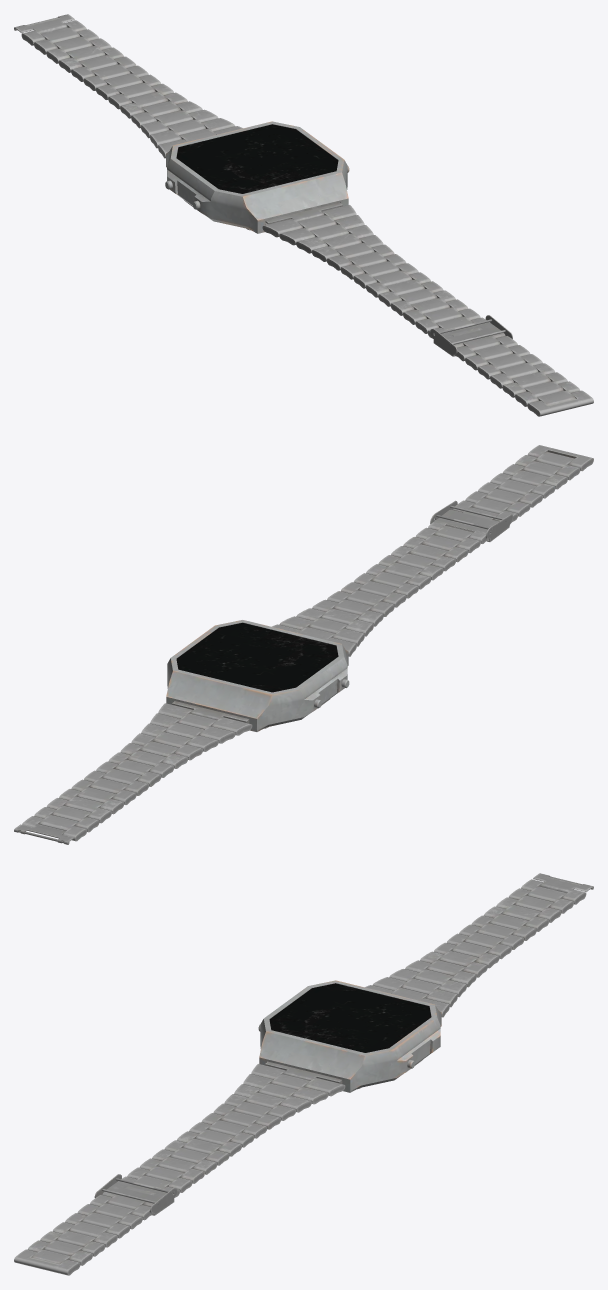
Rendered from digital_wrist_watch.glb.
The picture shows the model from 3 angles, top to bottom: view 1: azimuth 30°, elevation 25°; view 2: azimuth 150°, elevation 25°; view 3: azimuth 330°, elevation 25°; orthographic projection.
Visible parts, largest first — view 1: digital_wrist_watch; view 2: digital_wrist_watch; view 3: digital_wrist_watch.
Part boxes in pixels (left/top/right/bottom): digital_wrist_watch: left=14, top=14, right=593, bottom=416; digital_wrist_watch: left=14, top=445, right=593, bottom=844; digital_wrist_watch: left=14, top=873, right=593, bottom=1275.
Size of the model in its own units: 0.0365 by 0.00835 by 0.2172.
Materials: 2 (2 with a texture image).
